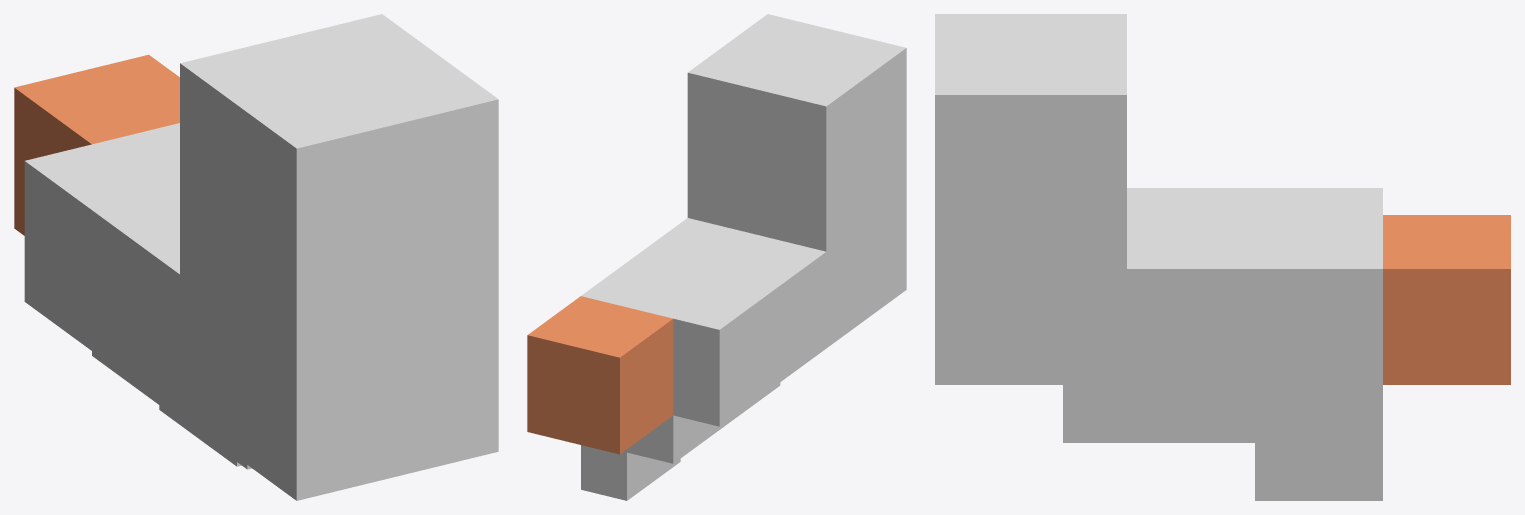
Rendered from PAI_arm.obj.
3 renders of one model, left to right at view 1: azimuth 30°, elevation 25°; view 2: azimuth 150°, elevation 25°; view 3: azimuth 270°, elevation 25°, orthographic. The views are drawn at different scales.
Size of the model in its own units: 3 by 7 by 9.
1 material, 1 textured.
